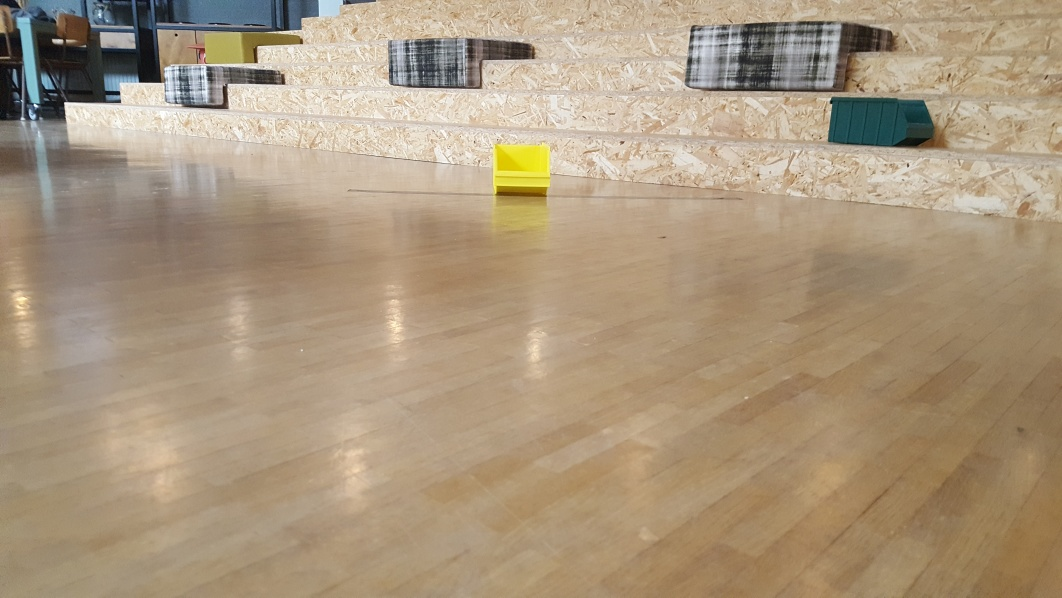tray: (824, 94, 936, 149), (492, 138, 554, 199)
